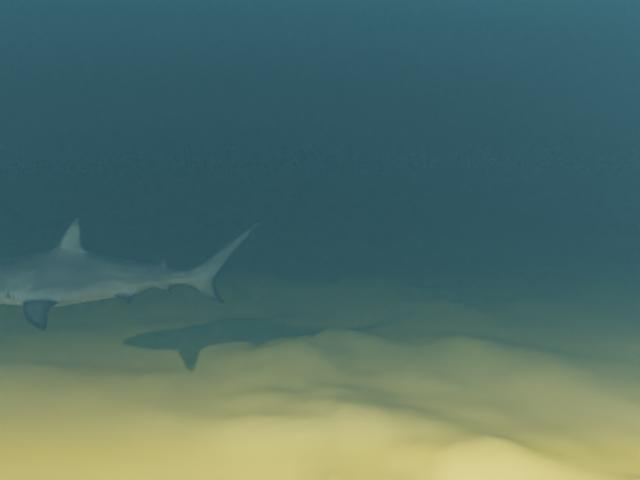Carribean Shark.001: (0, 218, 261, 331)
